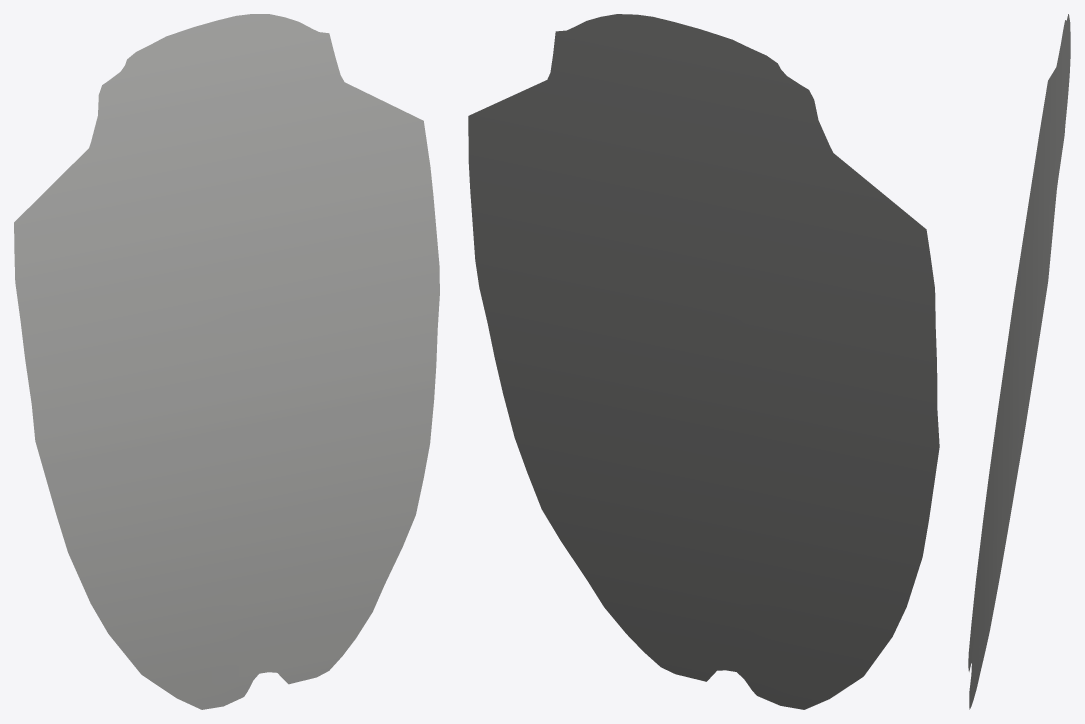
File: SM_MirrorPlane1_LOD0.fbx
3 renders of one model, left to right at view 1: azimuth 30°, elevation 25°; view 2: azimuth 150°, elevation 25°; view 3: azimuth 270°, elevation 25°, orthographic. The views are drawn at different scales.
Visible parts, largest first — view 1: SM_MirrorPlane1_LOD0; view 2: SM_MirrorPlane1_LOD0; view 3: SM_MirrorPlane1_LOD0.
Part boxes in pixels (<box>): SM_MirrorPlane1_LOD0: <box>14,14,439,709</box>; SM_MirrorPlane1_LOD0: <box>468,14,939,709</box>; SM_MirrorPlane1_LOD0: <box>968,14,1070,709</box>.
Bounding box in the file's own units: 2.91 × 4.25 × 0.6111.
